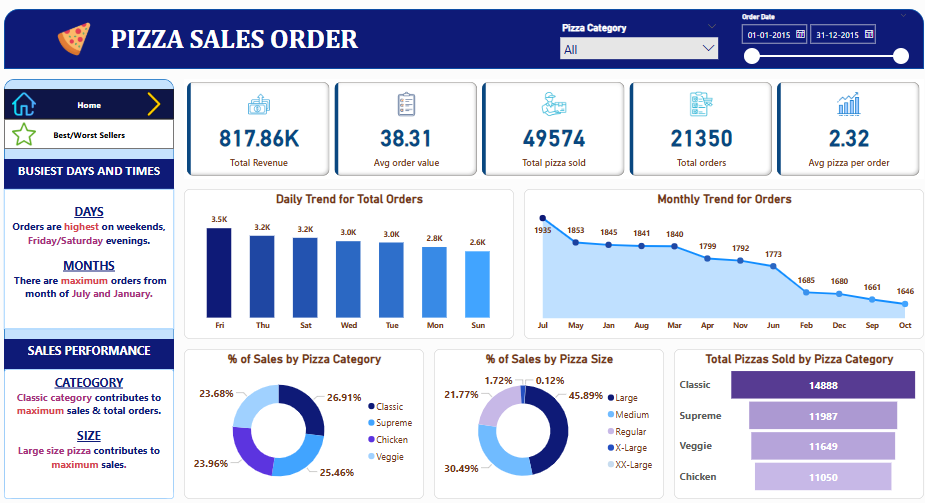

This screenshot's page, from the dashboard's own definition file:
{"tool":"powerbi","page":{"name":"Home","canvas":[1500,820],"ordinal":0},"visuals":[{"type":"shape","box":[16,128,272,672],"z":0},{"type":"cardVisual","fields":{"Data":["public pizza_data.Total_Revenue","public pizza_data.avg_order_value","public pizza_data.total_pizza_sold","public pizza_data.total_orders","public pizza_data.avg_pizza_per_order"]},"box":[304,128,1184,160],"z":1000},{"type":"shape","box":[16,16,1472,96],"z":2000},{"type":"textbox","box":[176,32,416,64],"z":3000},{"type":"image","box":[80,32,96,64],"z":4000},{"type":"columnChart","title":"Daily Trend for Total Orders","fields":{"Category":["public pizza_data.Order Day"],"Y":["public pizza_data.Total orders"]},"box":[304,304,528,240],"z":5000},{"type":"areaChart","title":"Monthly Trend for Orders","fields":{"Category":["public pizza_data.Order Month"],"Y":["public pizza_data.Total orders"]},"box":[848,304,640,240],"z":6000},{"type":"donutChart","title":"% of Sales by Pizza Category","fields":{"Category":["public pizza_data.pizza_category"],"Y":["public pizza_data.Total Revenue"]},"box":[304,560,384,240],"z":7000},{"type":"funnel","title":"Total Pizzas Sold by Pizza Category","fields":{"Category":["public pizza_data.pizza_category"],"Y":["public pizza_data.Total pizza sold"]},"box":[1088,560,400,240],"z":8000},{"type":"donutChart","title":"% of Sales by Pizza Size","fields":{"Category":["public pizza_data.pizza_size"],"Y":["public pizza_data.Total Revenue"]},"box":[704,560,368,240],"z":9000},{"type":"textbox","box":[16,256,272,48],"z":10000},{"type":"textbox","box":[16,304,272,224],"z":11000},{"type":"textbox","box":[16,544,272,48],"z":12000},{"type":"textbox","box":[16,592,272,208],"z":13000},{"type":"slicer","fields":{"Values":["public pizza_data.pizza_category"]},"box":[896,32,272,64],"z":14000},{"type":"slicer","fields":{"Values":["public pizza_data.order_date"]},"box":[1184,16,288,112],"z":15000},{"type":"pageNavigator","box":[16,144,272,48],"z":16000},{"type":"pageNavigator","box":[16,192,272,48],"z":17000},{"type":"image","box":[224,144,64,48],"z":17001},{"type":"image","box":[16,144,64,48],"z":17002},{"type":"image","box":[16,192,64,48],"z":17003}]}

Visuals, with their boxes in screenshot pixels (x1, y1, x2, y2), scaled from the page's 1500x820 canvas onto the 925x503 screenshot:
shape: 10,79,178,491
cardVisual - public pizza_data.Total_Revenue x public pizza_data.avg_order_value: 187,79,918,177
shape: 10,10,918,69
textbox: 109,20,365,59
image: 49,20,109,59
"Daily Trend for Total Orders" columnChart: 187,186,513,334
"Monthly Trend for Orders" areaChart: 523,186,918,334
"% of Sales by Pizza Category" donutChart: 187,344,424,491
"Total Pizzas Sold by Pizza Category" funnel: 671,344,918,491
"% of Sales by Pizza Size" donutChart: 434,344,661,491
textbox: 10,157,178,186
textbox: 10,186,178,324
textbox: 10,334,178,363
textbox: 10,363,178,491
slicer - public pizza_data.pizza_category: 553,20,720,59
slicer - public pizza_data.order_date: 730,10,908,79
pageNavigator: 10,88,178,118
pageNavigator: 10,118,178,147
image: 138,88,178,118
image: 10,88,49,118
image: 10,118,49,147
